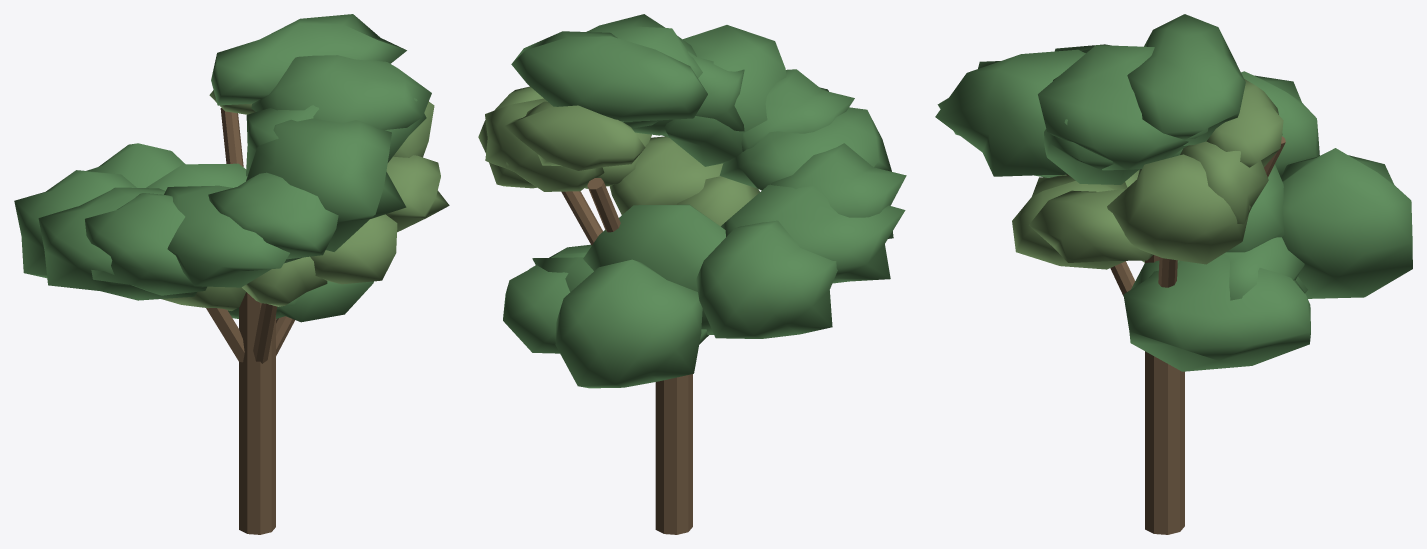
File: norway-alder_lod0.glb
3 views of the same model, side by side, from view 1: azimuth 30°, elevation 25°; view 2: azimuth 150°, elevation 25°; view 3: azimuth 270°, elevation 25° (orthographic). The views are drawn at different scales.
Parts seen in each view (by area): view 1: RF_AlderCrown_07, RF_AlderCrown_10, RF_AlderCrown_05, RF_Alder_Trunk, RF_AlderCrown_09, RF_AlderCrown_04, RF_AlderCrown_12, RF_AlderCrown_01, RF_AlderCrown_06, RF_AlderLight_01, RF_AlderLight_04, RF_AlderLight_06 (+9 smaller); view 2: RF_AlderCrown_03, RF_AlderCrown_06, RF_AlderCrown_05, RF_AlderCrown_01, RF_AlderCrown_07, RF_AlderCrown_11, RF_AlderLight_05, RF_AlderCrown_04, RF_Alder_Trunk, RF_AlderCrown_09, RF_AlderLight_01, RF_AlderCrown_13 (+10 smaller); view 3: RF_AlderCrown_03, RF_AlderCrown_13, RF_AlderCrown_10, RF_AlderCrown_07, RF_AlderCrown_05, RF_AlderLight_07, RF_Alder_Trunk, RF_AlderLight_04, RF_AlderLight_05, RF_AlderLight_02, RF_AlderLight_01, RF_AlderCrown_06 (+3 smaller).
Part boxes in pixels (bbox=[...]): RF_AlderCrown_07: bbox=[246, 118, 406, 251]; RF_AlderCrown_10: bbox=[251, 55, 431, 129]; RF_AlderCrown_05: bbox=[211, 14, 406, 105]; RF_Alder_Trunk: bbox=[239, 292, 275, 534]; RF_AlderCrown_09: bbox=[85, 193, 206, 295]; RF_AlderCrown_04: bbox=[164, 185, 303, 287]; RF_AlderCrown_12: bbox=[208, 172, 338, 259]; RF_AlderCrown_01: bbox=[38, 187, 196, 300]; RF_AlderCrown_06: bbox=[14, 170, 136, 278]; RF_AlderLight_01: bbox=[310, 214, 397, 284]; RF_AlderLight_04: bbox=[386, 155, 449, 232]; RF_AlderLight_06: bbox=[242, 256, 327, 306]; RF_AlderCrown_03: bbox=[555, 259, 702, 388]; RF_AlderCrown_06: bbox=[696, 220, 837, 338]; RF_AlderCrown_05: bbox=[511, 31, 707, 121]; RF_AlderCrown_01: bbox=[721, 184, 905, 283]; RF_AlderCrown_07: bbox=[662, 25, 786, 166]; RF_AlderCrown_11: bbox=[583, 204, 725, 334]; RF_AlderLight_05: bbox=[504, 101, 645, 170]; RF_AlderCrown_04: bbox=[719, 107, 891, 190]; RF_Alder_Trunk: bbox=[655, 374, 692, 534]; RF_AlderCrown_09: bbox=[771, 143, 906, 238]; RF_AlderLight_01: bbox=[609, 136, 723, 214]; RF_AlderCrown_13: bbox=[503, 244, 591, 353]; RF_AlderCrown_03: bbox=[1281, 148, 1412, 298]; RF_AlderCrown_13: bbox=[1123, 254, 1310, 371]; RF_AlderCrown_10: bbox=[1038, 45, 1208, 170]; RF_AlderCrown_07: bbox=[935, 49, 1085, 177]; RF_AlderCrown_05: bbox=[1127, 14, 1245, 145]; RF_AlderLight_07: bbox=[1107, 154, 1250, 264]; RF_Alder_Trunk: bbox=[1145, 255, 1184, 534]; RF_AlderLight_04: bbox=[1029, 188, 1153, 262]; RF_AlderLight_05: bbox=[1206, 79, 1283, 167]; RF_AlderLight_02: bbox=[1180, 141, 1268, 224]; RF_AlderLight_01: bbox=[1012, 175, 1127, 269]; RF_AlderCrown_06: bbox=[1241, 71, 1319, 177].
Size of the model in its own units: 9.33 by 11.09 by 9.28.
